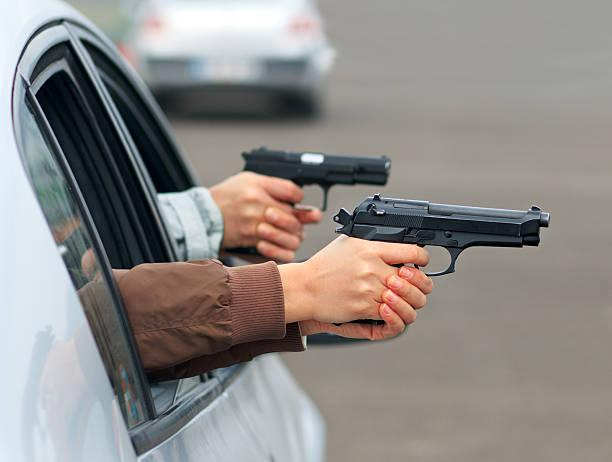weapon: (331, 191, 553, 277), (235, 139, 394, 211)
